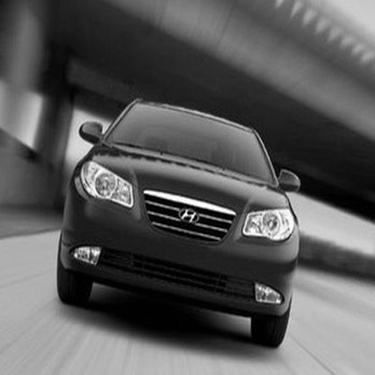car: (47, 91, 306, 352)
